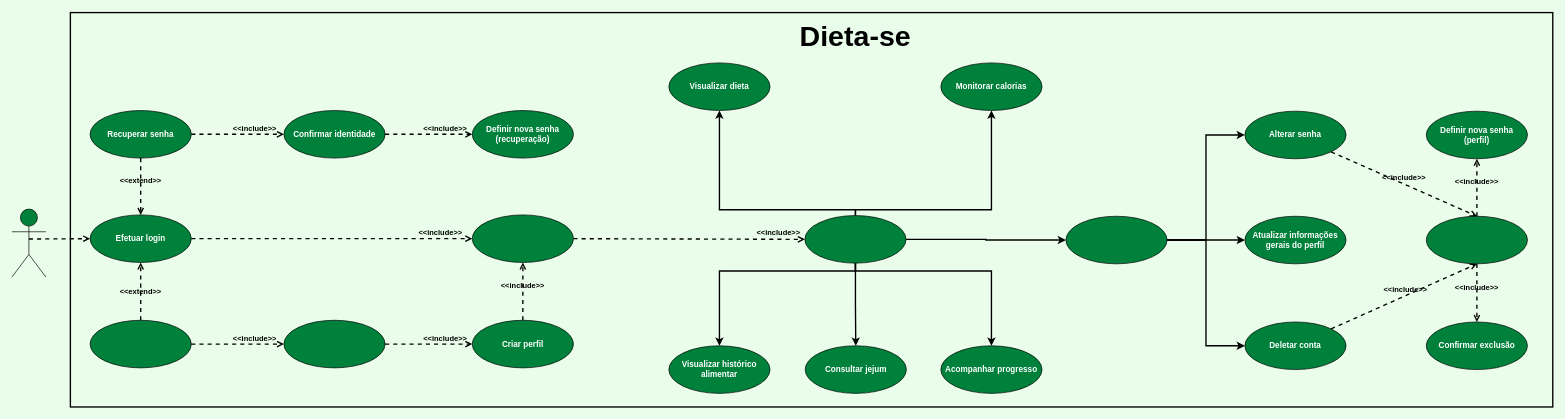
The diagram is 1565 pixels wide and 419 high, and some of its shapes have lost their labels. Each missing label, with the centre of its shape:
"Cadastrar-se" belongs at (140,344).
"Editar perfil" belongs at (1116,240).
"Entrar na tela inicial do aplicativo" belongs at (855,239).
"Preencher formulário inicial" belongs at (334,344).
"Usuário" belongs at (28,242).
"Validar credenciais" belongs at (522,238).
"Validar senha atual" belongs at (1476,240).
